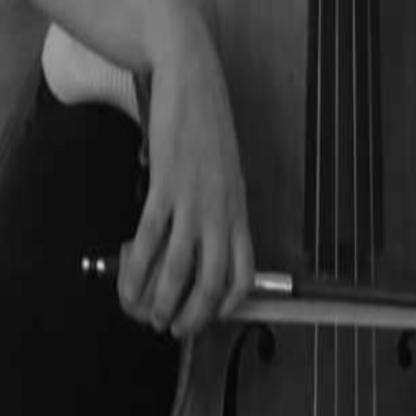good: (96, 88, 272, 353)
